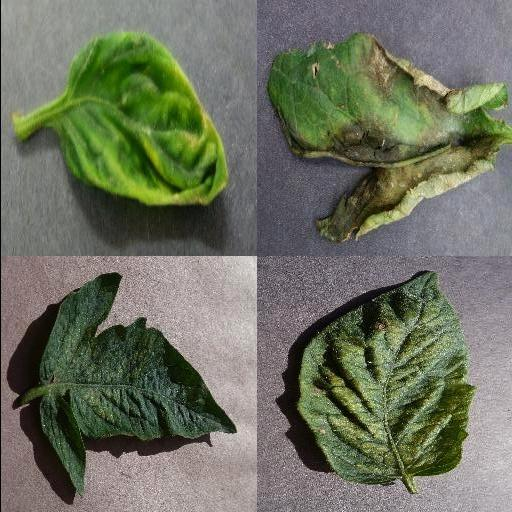Late Blight: (263, 35, 507, 245)
Spider Mites: (36, 271, 238, 499), (298, 271, 478, 485)
Yellow Leaf Curl Virus: (56, 31, 230, 205)
